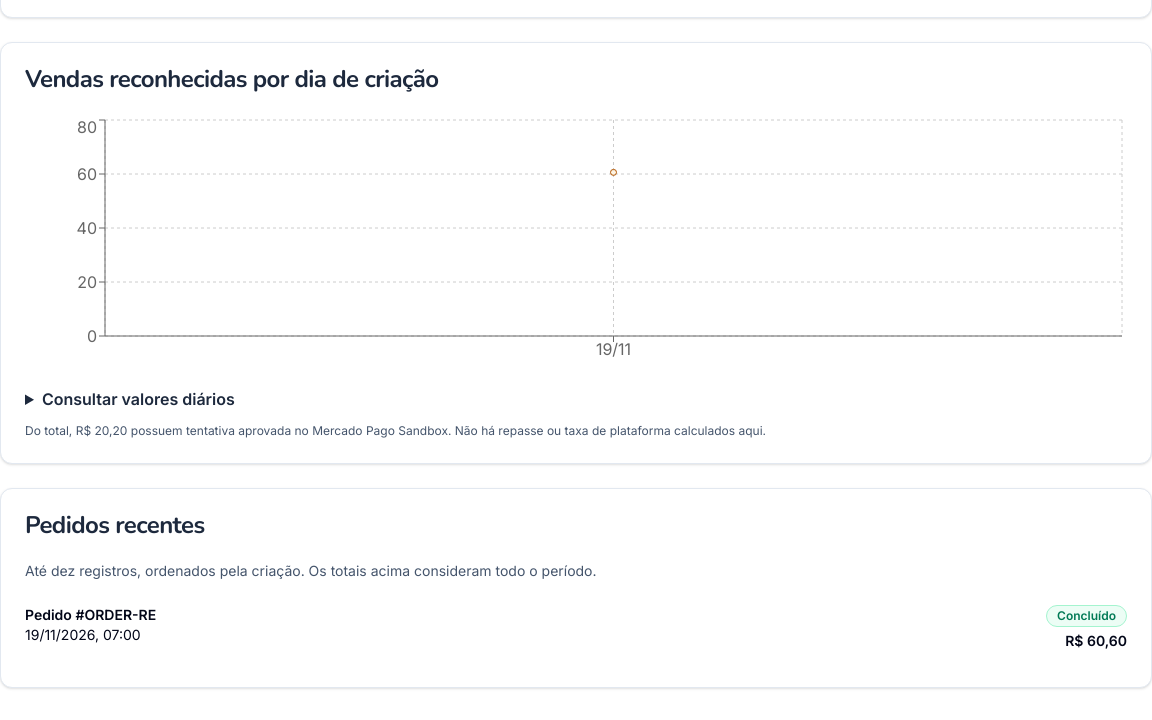
DSH financeiro oferece valores diários acessíveis e preserva a definição do período
(page scrolled)
Click the heading "Consultar valores diários" at (138, 399), box [42,389,235,409]
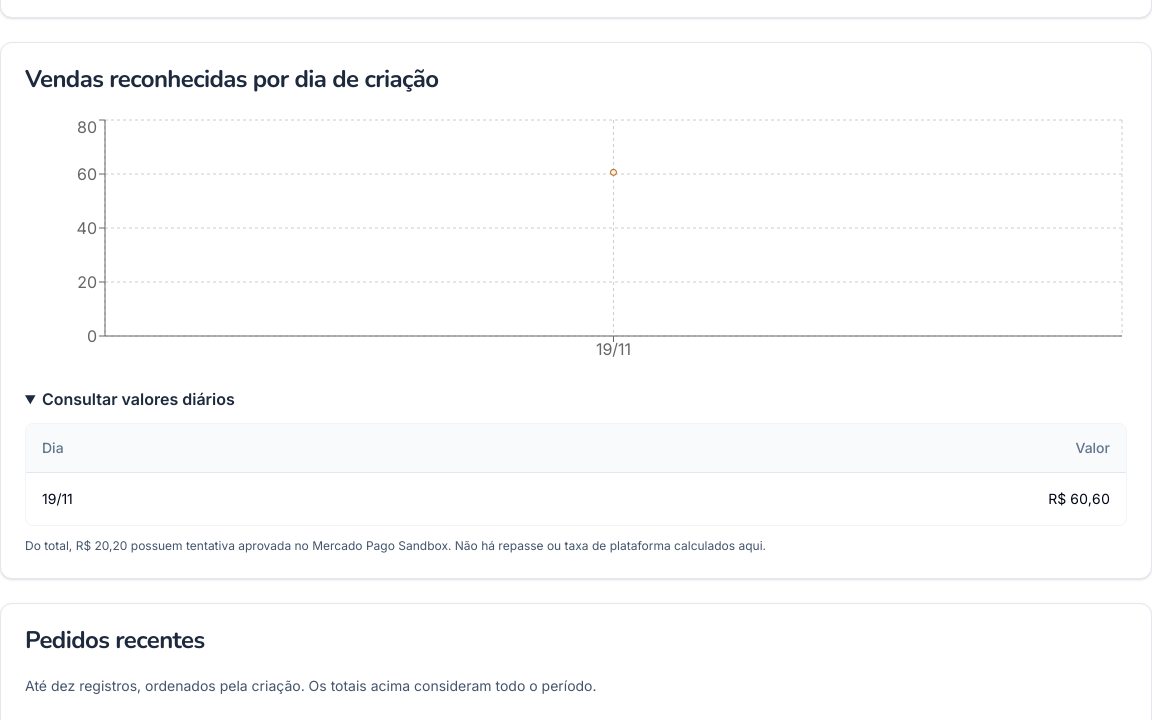
Check: the text "19/11" is shown, box [26,472,467,524]
